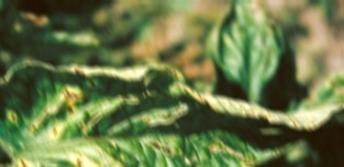Tomato Septoria leaf spot: (0, 57, 337, 167)
